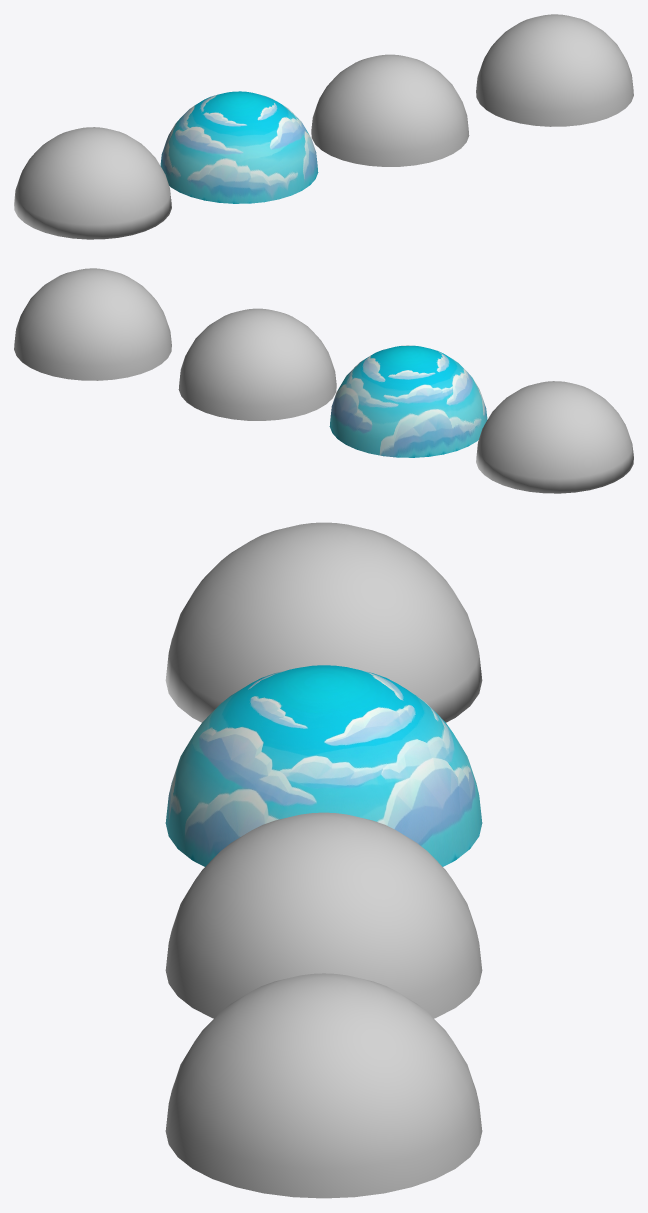
The model's file is SkyDome.fbx.
3 views of the same model, one above another, from view 1: azimuth 30°, elevation 25°; view 2: azimuth 150°, elevation 25°; view 3: azimuth 270°, elevation 25° (orthographic). The views are drawn at different scales.
Visible parts, largest first — view 1: SkyDome_3, SkyDome_1, SkyDome_Night, SkyDome_2; view 2: SkyDome_3, SkyDome_1, SkyDome_Night, SkyDome_2; view 3: SkyDome_3, SkyDome_Night, SkyDome_2, SkyDome_1.
Part boxes in pixels (box(x1,y1,x2,y2)): SkyDome_3: box(476, 14, 633, 126); SkyDome_1: box(14, 127, 171, 239); SkyDome_Night: box(311, 54, 469, 166); SkyDome_2: box(160, 91, 318, 203); SkyDome_3: box(14, 268, 171, 380); SkyDome_1: box(476, 381, 633, 493); SkyDome_Night: box(178, 308, 336, 420); SkyDome_2: box(329, 345, 487, 457); SkyDome_3: box(165, 973, 482, 1198); SkyDome_Night: box(165, 812, 482, 1018); SkyDome_2: box(165, 665, 482, 866); SkyDome_1: box(165, 522, 482, 722).
Bounding box in the file's own units: 874 × 100 × 200.
